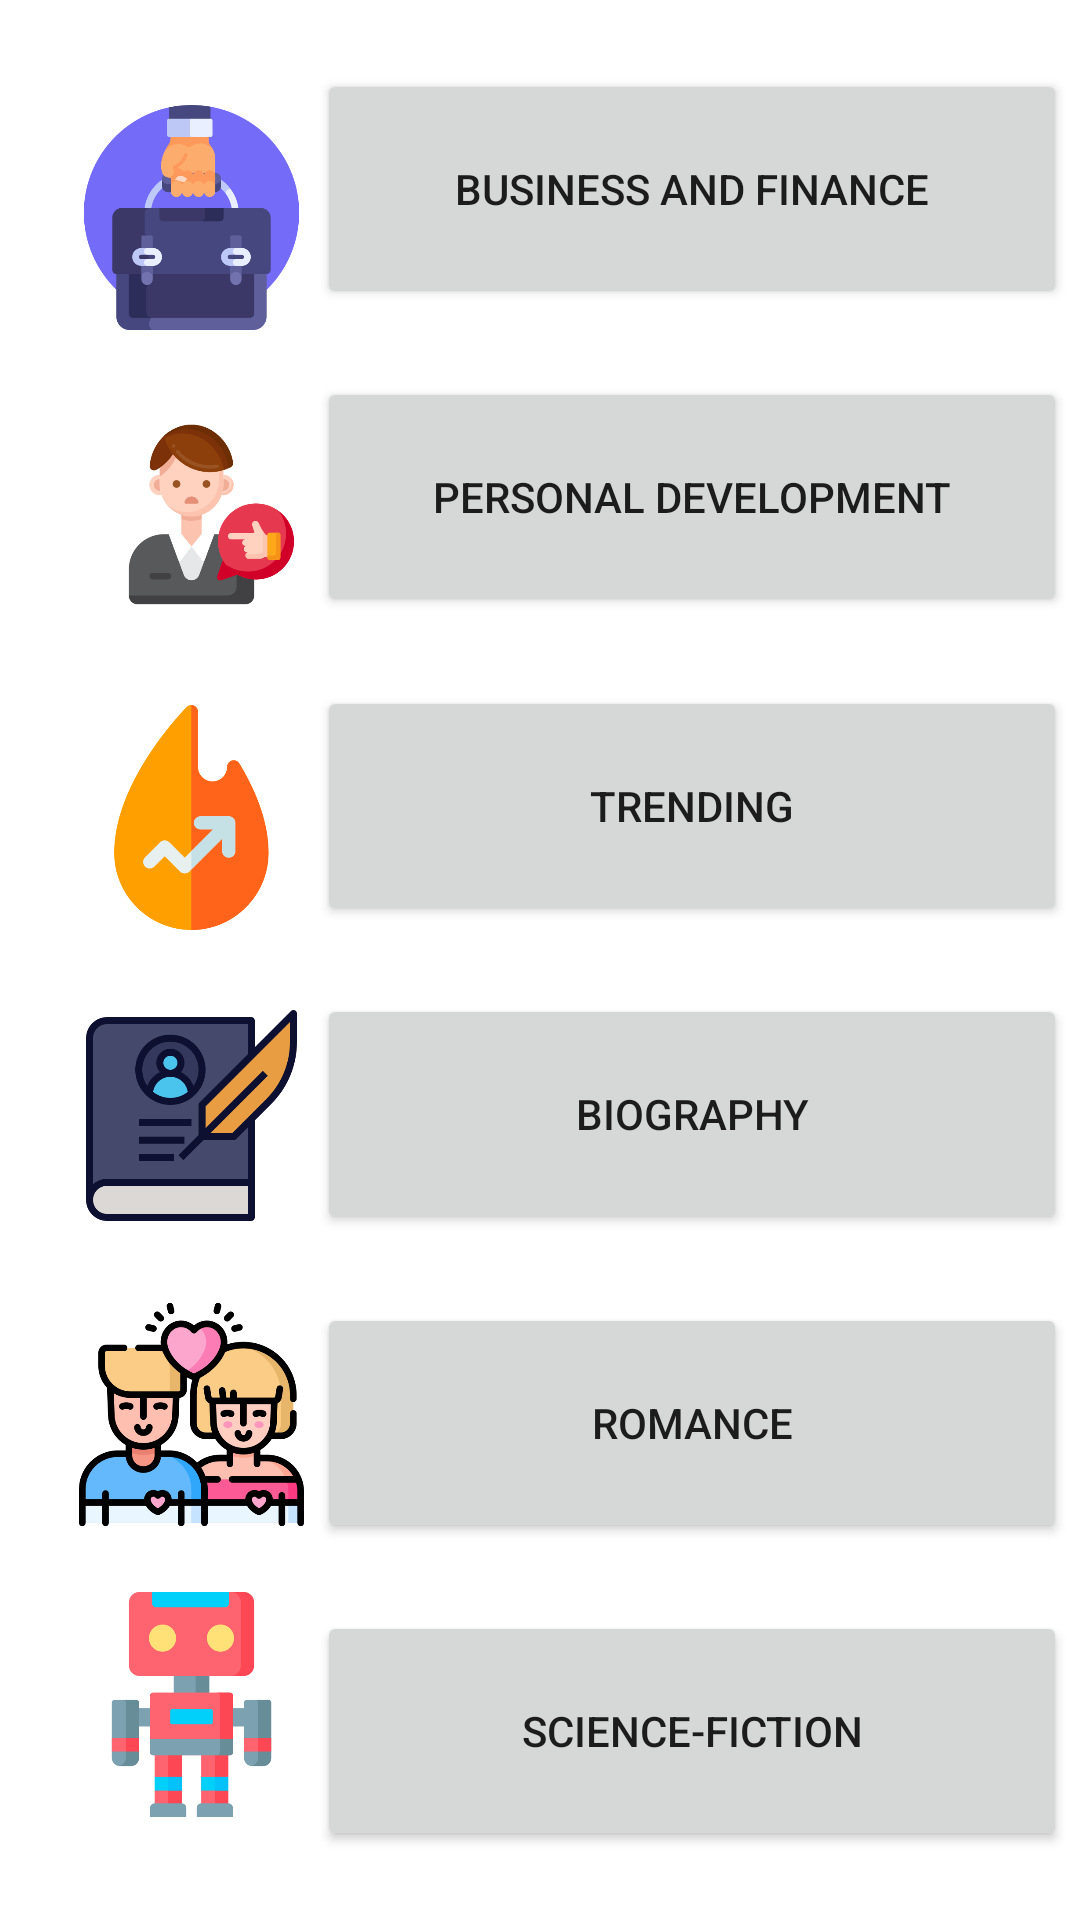

Icons on this 1080w x 1920h Android screen, each with its box as (x1, y1, x2, y2):
personality: (129, 424, 294, 605)
